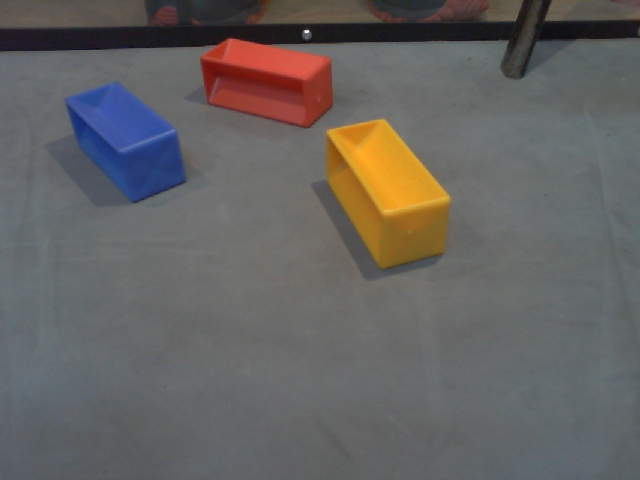BlueSample: (63, 76, 189, 205)
RedSample: (196, 34, 333, 128)
YellowSample: (320, 115, 452, 270)
